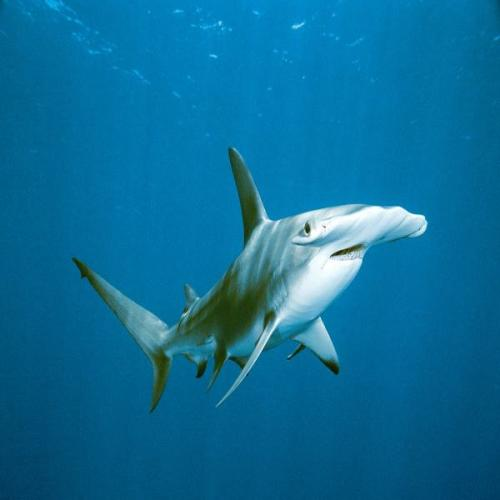shark-endangered: (70, 148, 428, 414)
